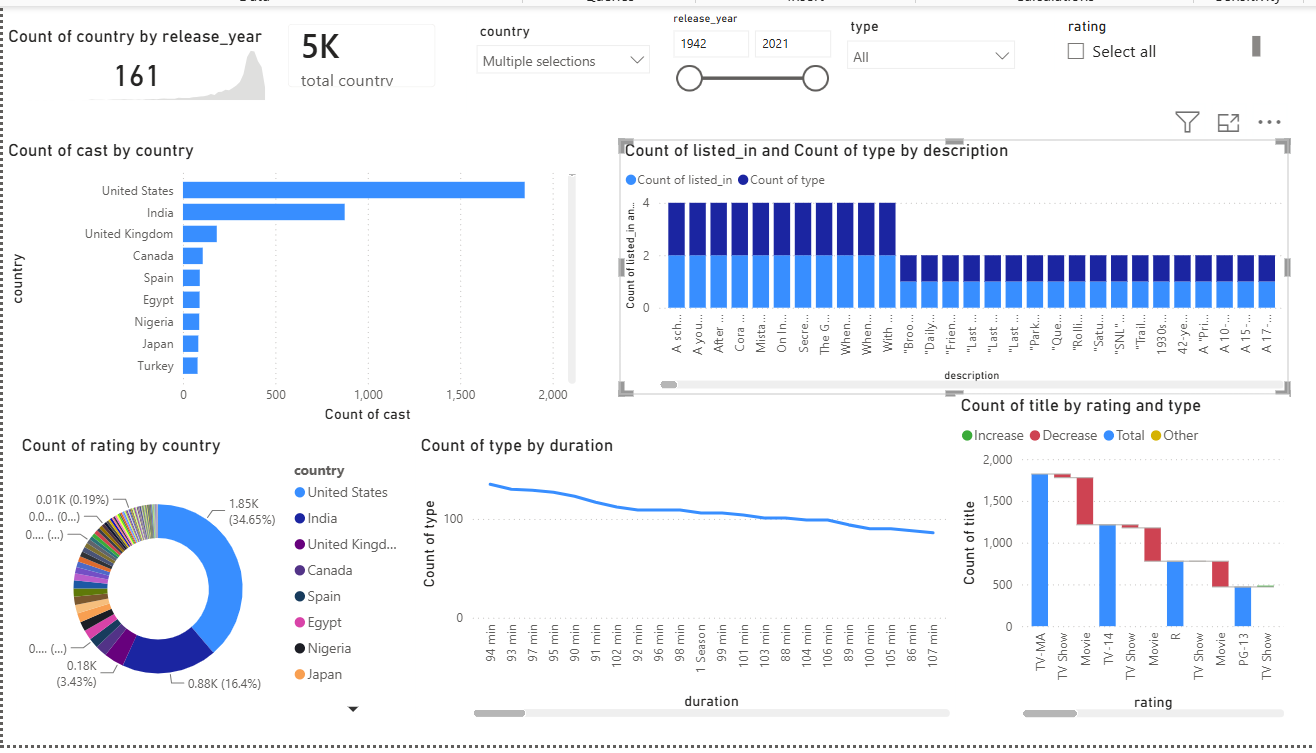

What the dashboard file says about the page in this screenshot:
{"tool":"powerbi","page":{"name":"Page 1","canvas":[1280,720],"ordinal":0},"visuals":[{"type":"barChart","fields":{"Category":["netflix_titles.country"],"Y":["CountNonNull(netflix_titles.cast)"]},"box":[0,130.4,563.2,279.7],"z":0},{"type":"lineStackedColumnComboChart","fields":{"Category":["netflix_titles.description"],"Y":["CountNonNull(netflix_titles.listed_in)","CountNonNull(netflix_titles.type)"]},"box":[600.9,130.4,652,247.6],"z":1000},{"type":"donutChart","fields":{"Category":["netflix_titles.country"],"Y":["CountNonNull(netflix_titles.rating)"]},"box":[13.2,417.6,389.3,279.7],"z":2000},{"type":"lineChart","fields":{"Category":["netflix_titles.duration"],"Y":["CountNonNull(netflix_titles.type)"]},"box":[402.5,417.6,525.4,279.7],"z":3000},{"type":"waterfallChart","fields":{"Category":["netflix_titles.rating"],"Breakdown":["netflix_titles.type"],"Y":["CountNonNull(netflix_titles.title)"]},"box":[927.9,378,325,319.4],"z":4000},{"type":"kpi","fields":{"Indicator":["CountNonNull(netflix_titles.country)"],"TrendLine":["netflix_titles.release_year"]},"box":[0,0,260.8,77.5],"z":5000},{"type":"cardVisual","fields":{"Data":["netflix_titles.total country"]},"box":[300.5,0,206,96.4],"z":6000},{"type":"slicer","fields":{"Values":["netflix_titles.country"]},"box":[451.7,0,189,96.4],"z":7000},{"type":"slicer","fields":{"Values":["netflix_titles.release_year"]},"box":[640.6,0,300.5,77.5],"z":8000},{"type":"slicer","fields":{"Values":["netflix_titles.type"]},"box":[812.6,5.7,183.3,64.3],"z":9000},{"type":"slicer","fields":{"Values":["netflix_titles.rating"]},"box":[978.9,0,300.5,69.9],"z":10000}]}

Visuals, with their boxes in screenshot pixels (x1, y1, x2, y2), scaled from the page's 1280x720 canvas onto the 1316x753 screenshot:
barChart - netflix_titles.country x CountNonNull(netflix_titles.cast): crop(0, 136, 579, 429)
lineStackedColumnComboChart - netflix_titles.description x CountNonNull(netflix_titles.listed_in): crop(618, 136, 1288, 395)
donutChart - netflix_titles.country x CountNonNull(netflix_titles.rating): crop(14, 437, 414, 729)
lineChart - netflix_titles.duration x CountNonNull(netflix_titles.type): crop(414, 437, 954, 729)
waterfallChart - netflix_titles.rating x netflix_titles.type: crop(954, 395, 1288, 729)
kpi - CountNonNull(netflix_titles.country) x netflix_titles.release_year: crop(0, 0, 268, 81)
cardVisual - netflix_titles.total country: crop(309, 0, 521, 101)
slicer - netflix_titles.country: crop(464, 0, 659, 101)
slicer - netflix_titles.release_year: crop(659, 0, 968, 81)
slicer - netflix_titles.type: crop(835, 6, 1024, 73)
slicer - netflix_titles.rating: crop(1006, 0, 1315, 73)
